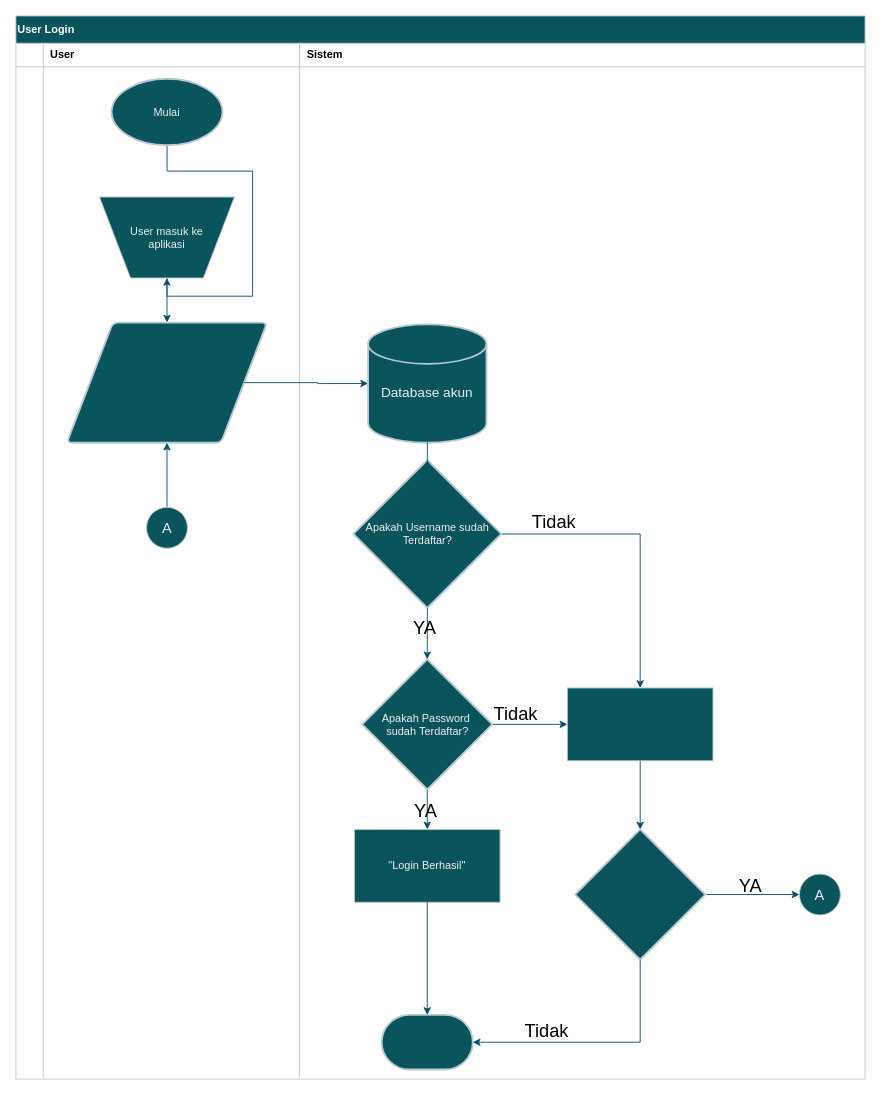
This 882x1096 diagram has some shape labels left out. Here are the shapes that lost their labels. From the top down, the centre of each, then its label:
point 167,382: User menginput Username dan password untuk login
point 639,724: "Password atau Username salah, Mau login Ulang?"
point 640,894: Login ulang
point 426,1042: Selesai
